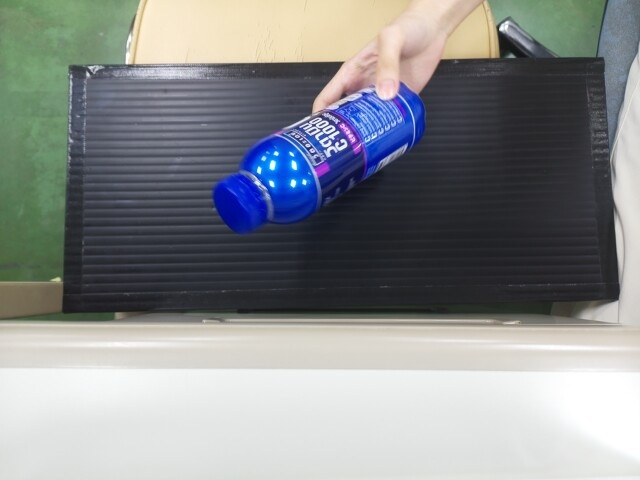plastic_bottle: (211, 84, 398, 230)
